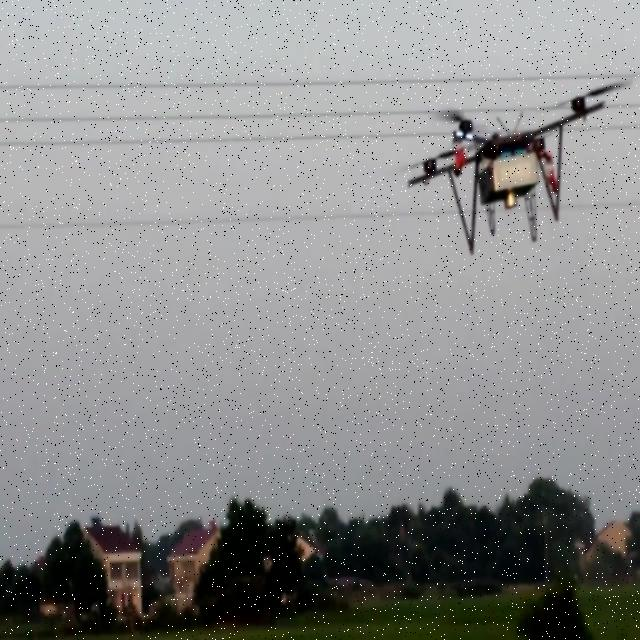UAV: (402, 80, 632, 255)
